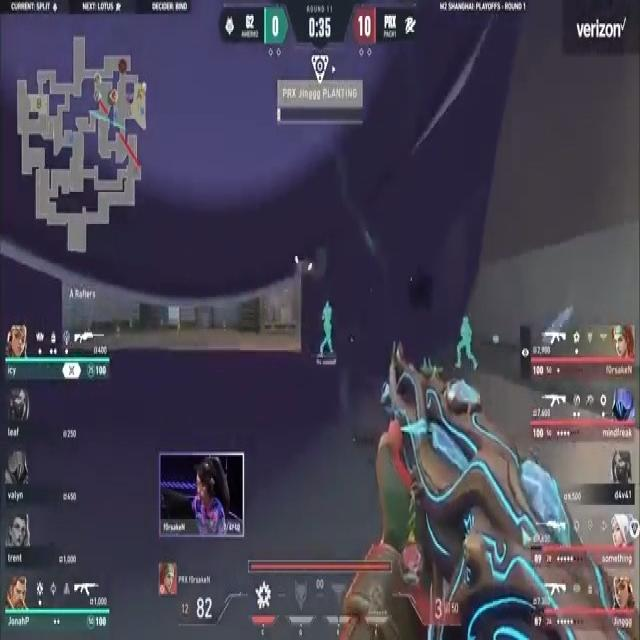ally behind wall: (450, 309, 481, 374), (319, 300, 336, 360)
